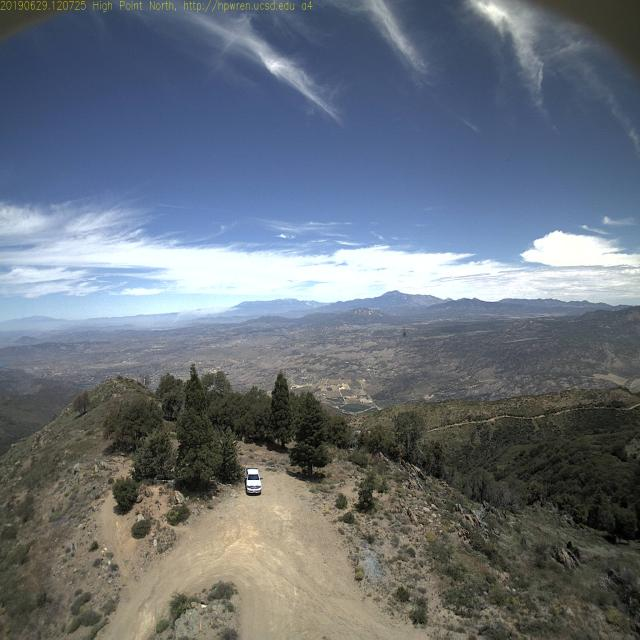smoke: (164, 293, 226, 338)
